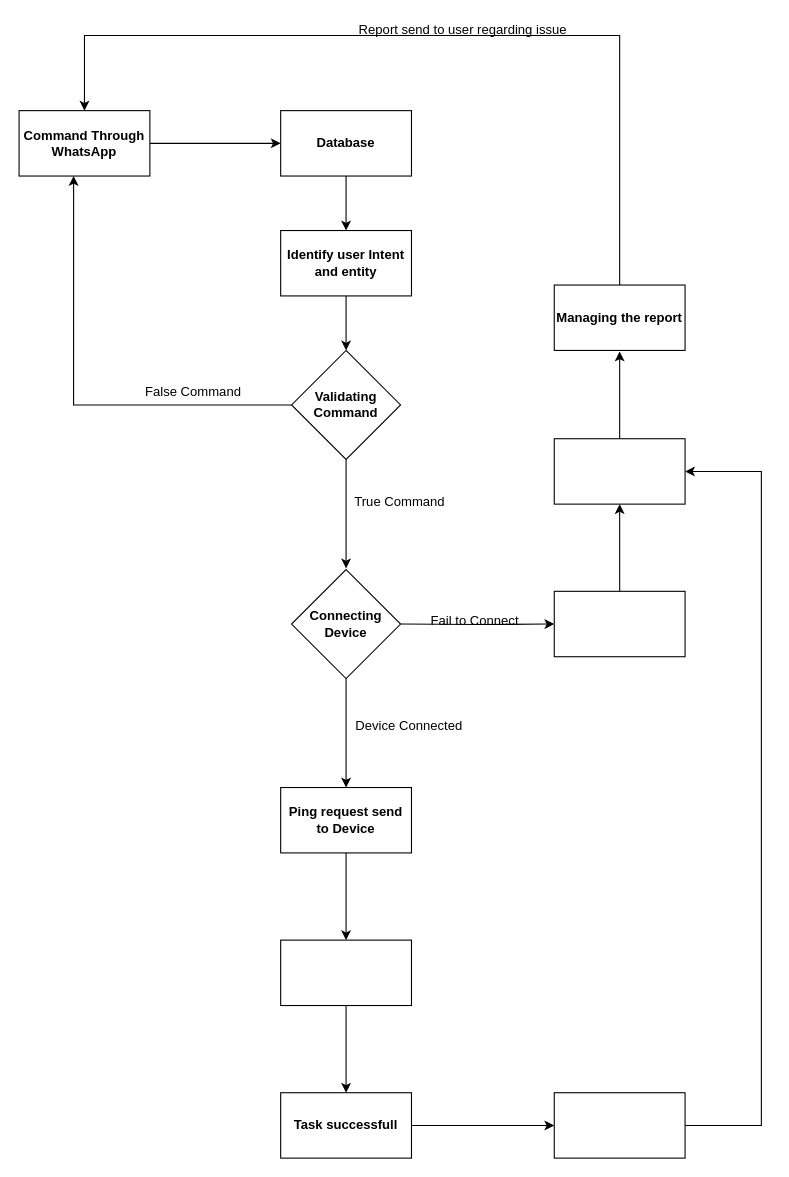
This 789x1177 diagram has some shape labels left out. The shapes that lost their labels are listed below. From the top down, each one's centre as x and y in pixels, then its label:
At point (619, 471): "Generating report".
At point (619, 623): "Identifying problem".
At point (345, 972): "Respond to command".
At point (619, 1125): "Success Report".
